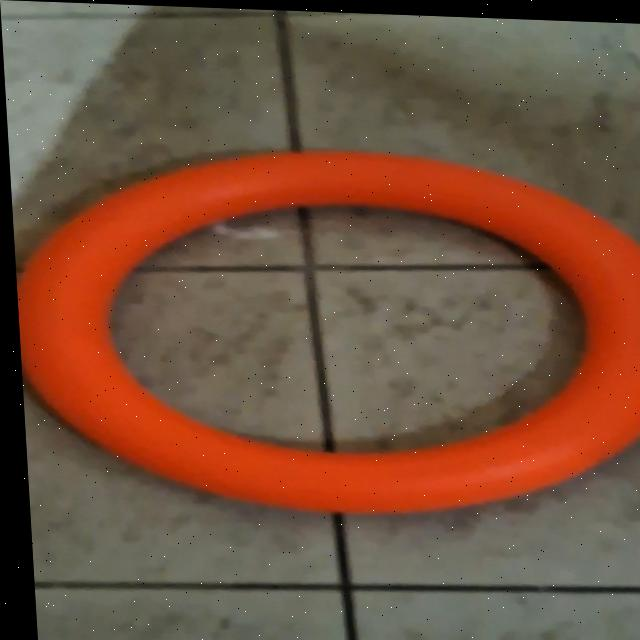note: (8, 136, 640, 522)
